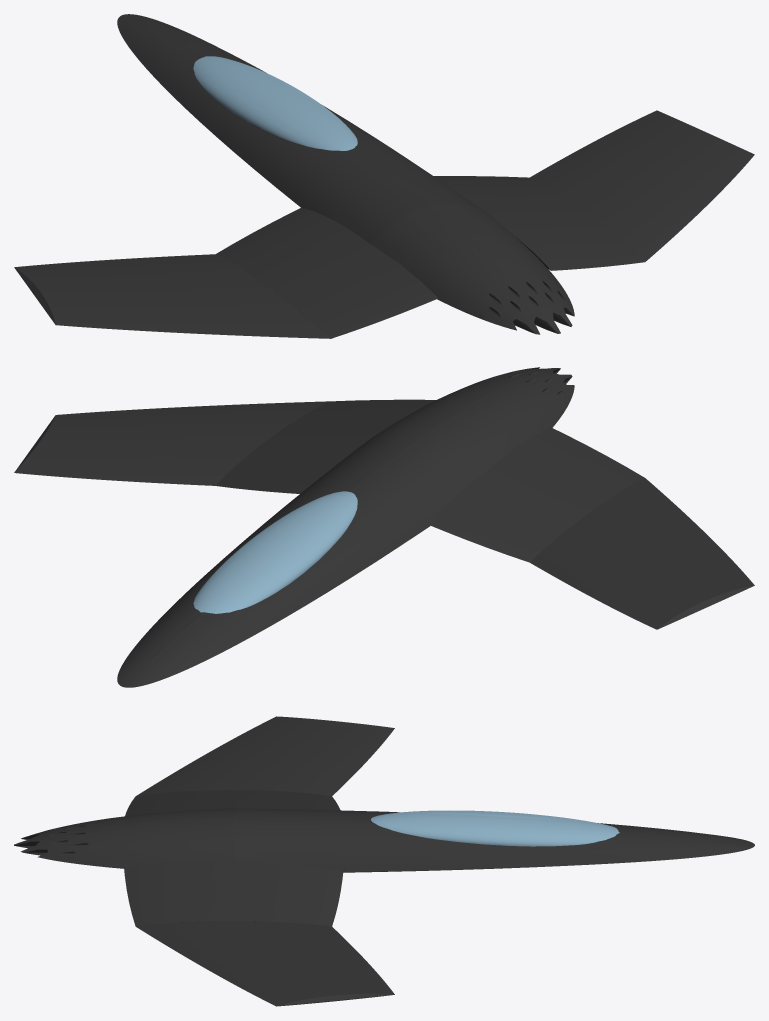
File: XeSeriesfighter.dae
The picture shows the model from 3 angles, top to bottom: view 1: azimuth 30°, elevation 25°; view 2: azimuth 150°, elevation 25°; view 3: azimuth 270°, elevation 25°; orthographic projection. The views are drawn at different scales.
Visible parts, largest first — view 1: group_1, group_2; view 2: group_1, group_2; view 3: group_1, group_2.
Part boxes in pixels (box(x1,y1,x2,y2)): group_1: box(14, 14, 754, 338); group_2: box(193, 56, 357, 150); group_1: box(14, 367, 754, 687); group_2: box(193, 491, 357, 613); group_1: box(14, 716, 754, 1006); group_2: box(371, 810, 619, 846).
Bounding box in the file's own units: 1208 × 1304 × 93.2.
